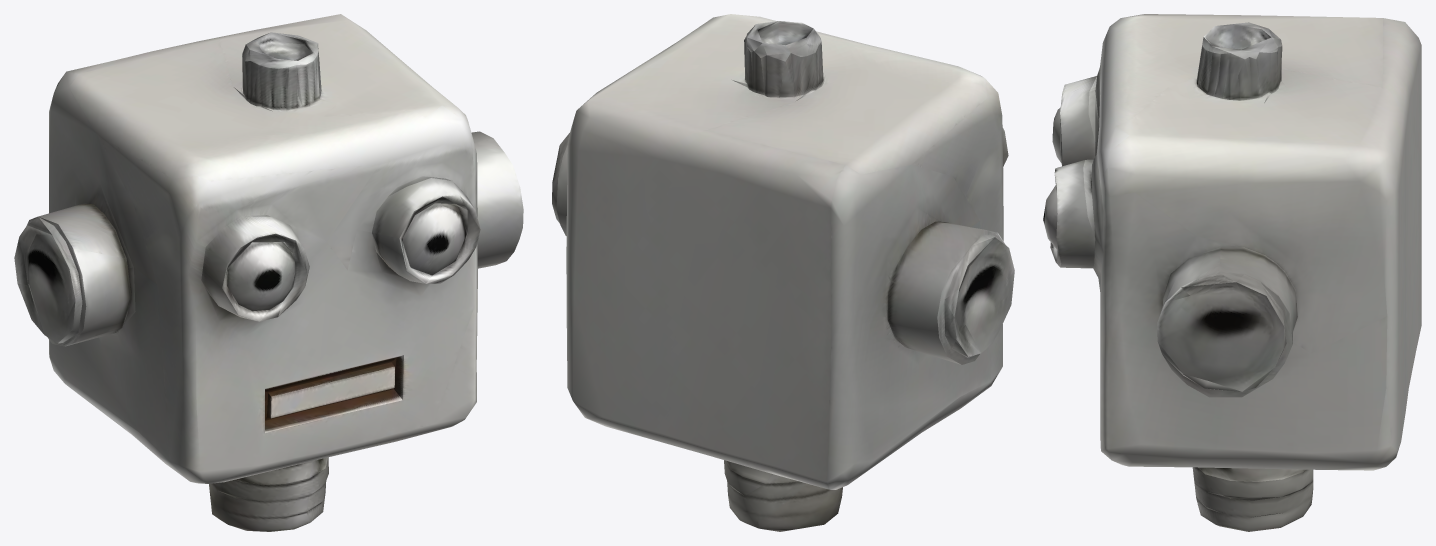
The model's file is robotHeadBox.glb.
The picture shows the model from 3 angles, left to right: view 1: azimuth 30°, elevation 25°; view 2: azimuth 150°, elevation 25°; view 3: azimuth 270°, elevation 25°; orthographic projection. The views are drawn at different scales.
Visible parts, largest first — view 1: model; view 2: model; view 3: model.
Boxes of the visible parts, left/top/right/bottom form: model: left=14, top=14, right=523, bottom=531; model: left=552, top=14, right=1014, bottom=531; model: left=1043, top=14, right=1421, bottom=531.
Bounding box in the file's own units: 1.83 × 1.9 × 1.36.
1 material, 1 textured.
